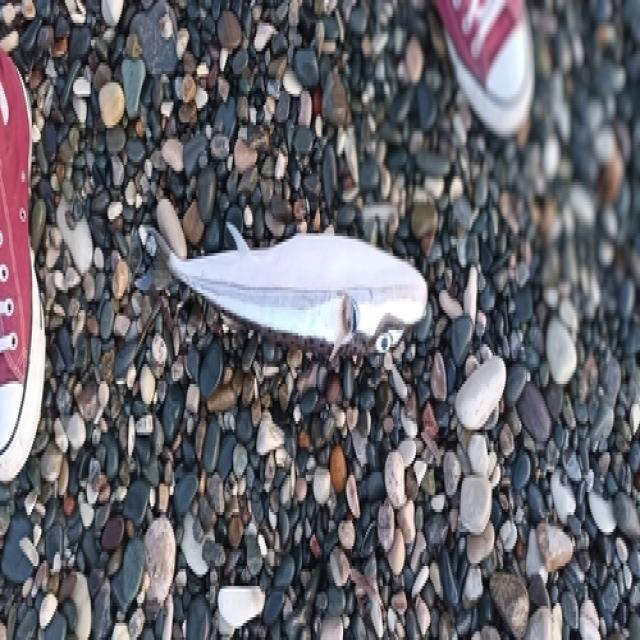Balik: (136, 225, 426, 358)
